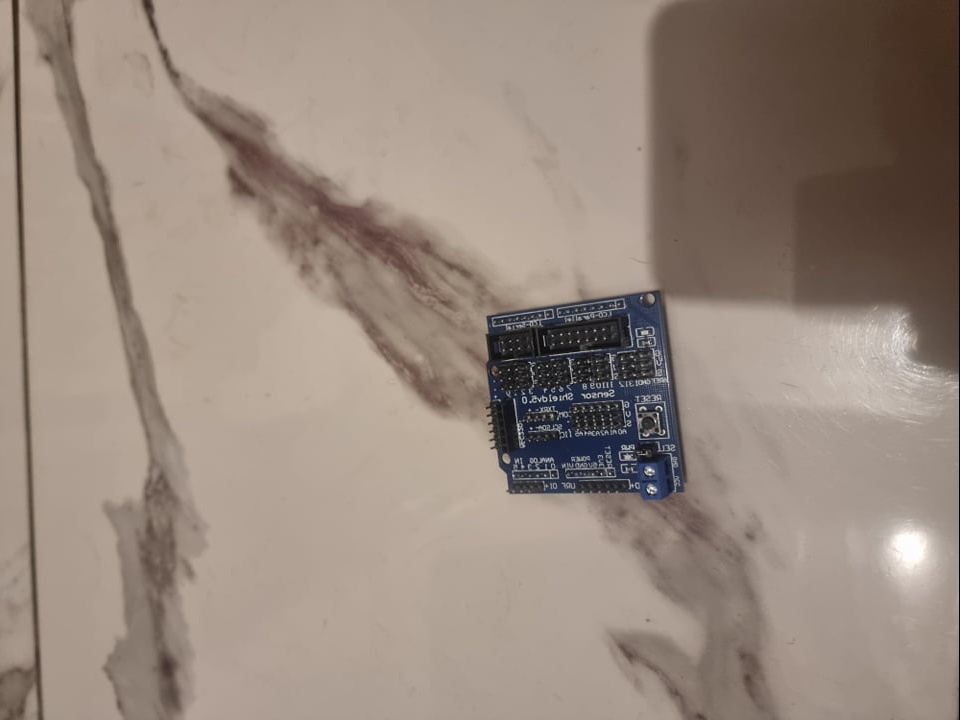5V EXPANSION: (488, 290, 694, 499)
